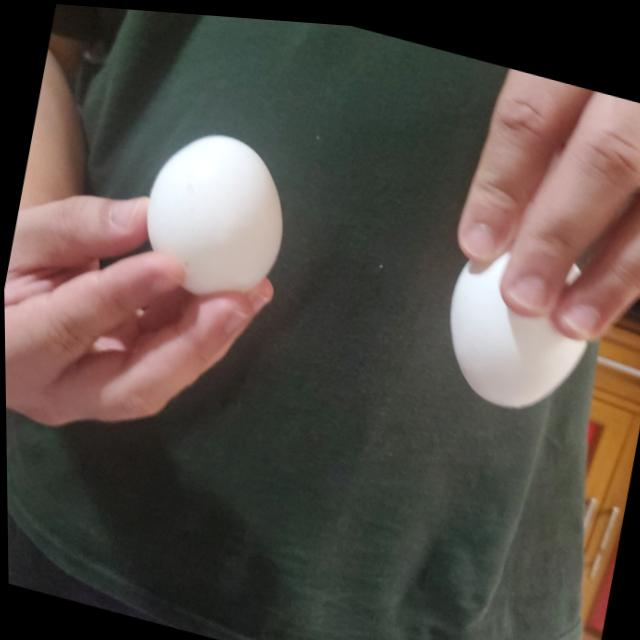egg: (426, 225, 601, 423), (128, 116, 295, 315)
